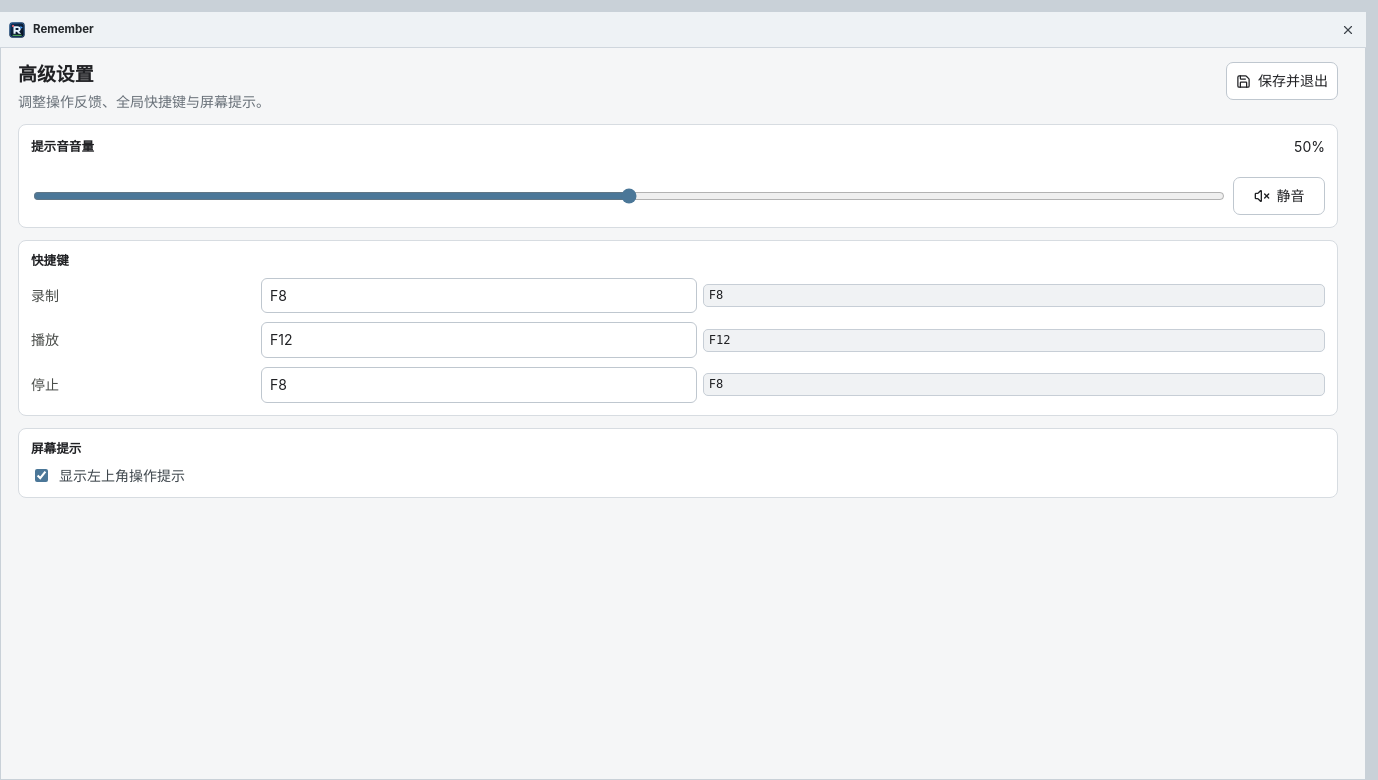
Test: AdvancedSettings › reports an atomic bundle save failure without issuing compensation writes
Expected: the button "保存并退出" is enabled, x1=1226 y1=62 x2=1338 y2=100
Set the slider named "提示音音量" to "75" at (923, 196), box x1=33 y1=188 x2=1225 y2=204
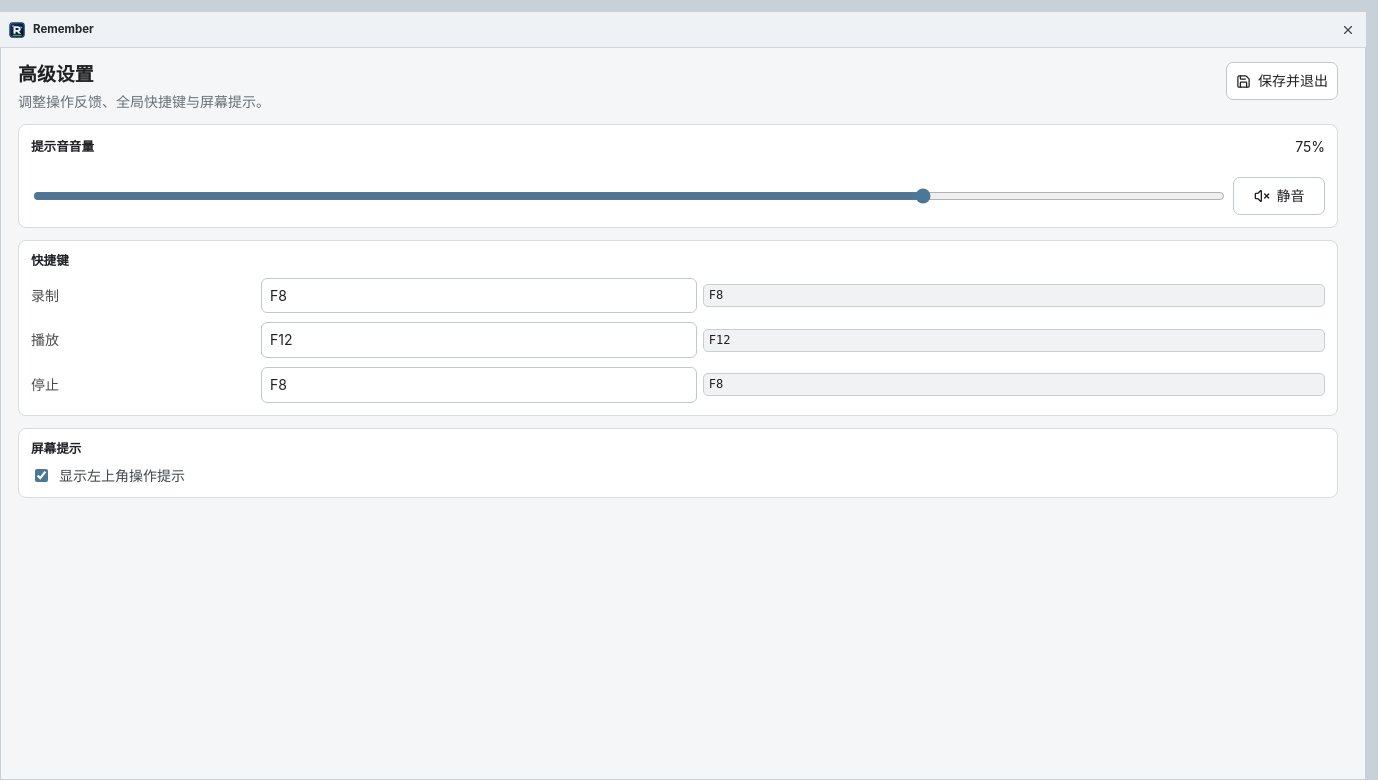
Click the button "保存并退出" at (1282, 81), box x1=1226 y1=62 x2=1338 y2=100
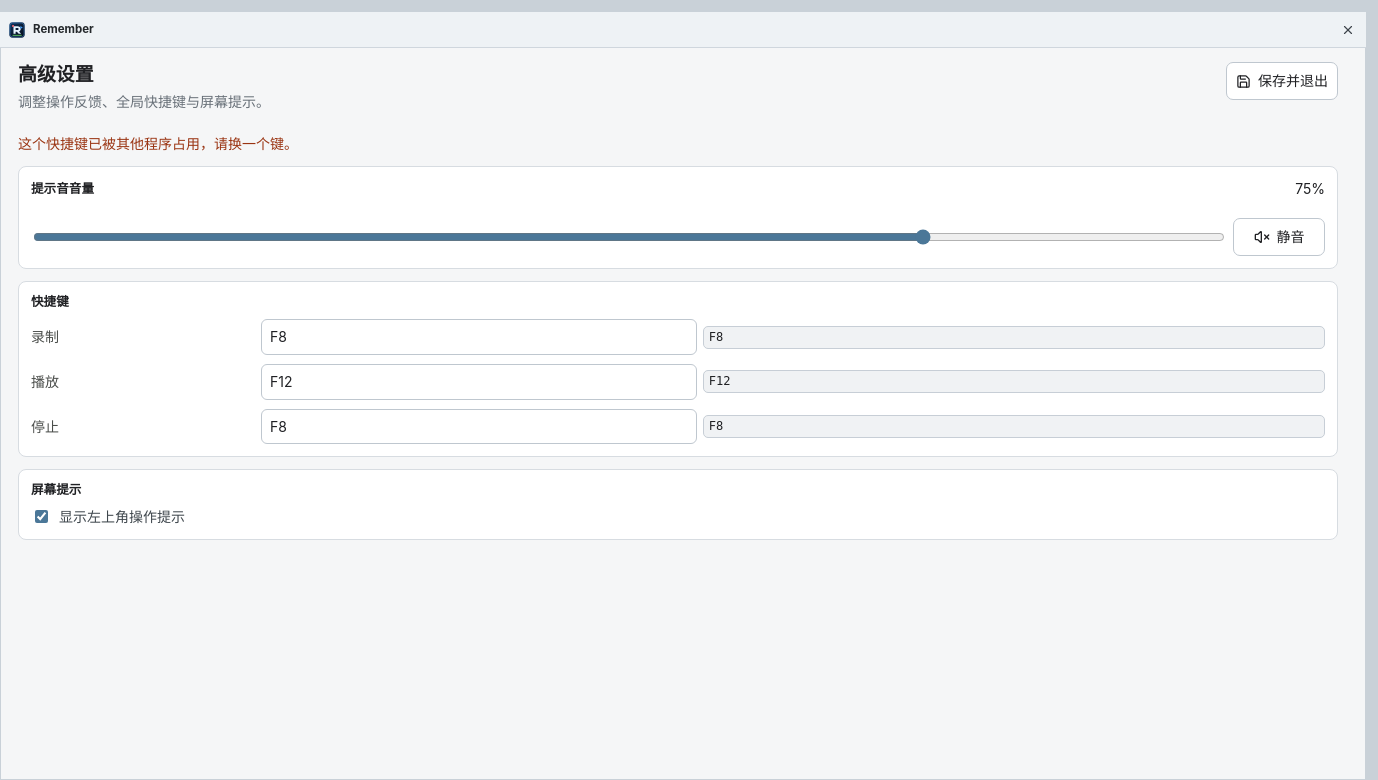
Now the message reads "这个快捷键已被其他程序占用，请换一个键。", box x1=18 y1=135 x2=298 y2=152
